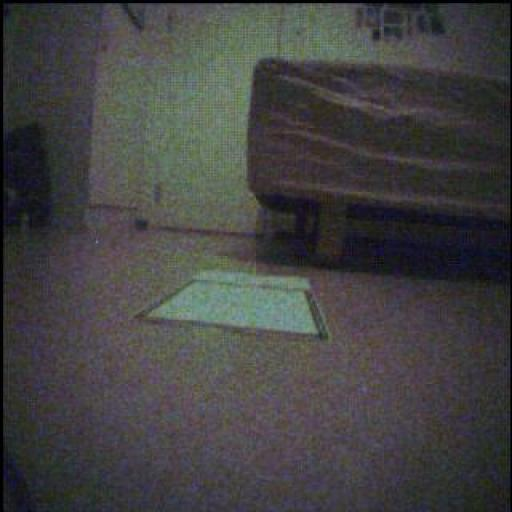pad: (139, 272, 331, 341)
